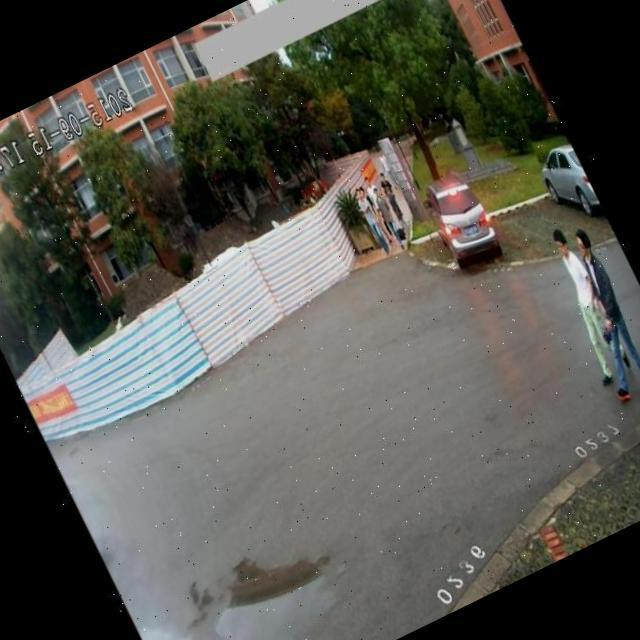person: (562, 220, 640, 399), (533, 222, 617, 354), (348, 185, 392, 257), (370, 186, 408, 255), (375, 169, 410, 228), (372, 146, 402, 194), (357, 171, 376, 197)
